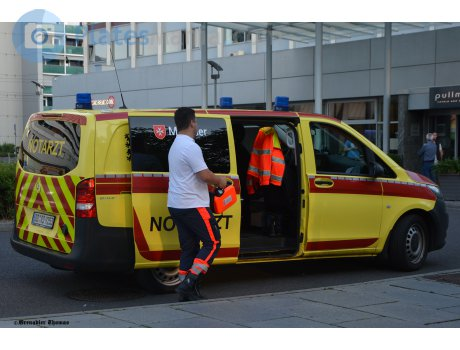License Plates: (29, 209, 55, 229)
